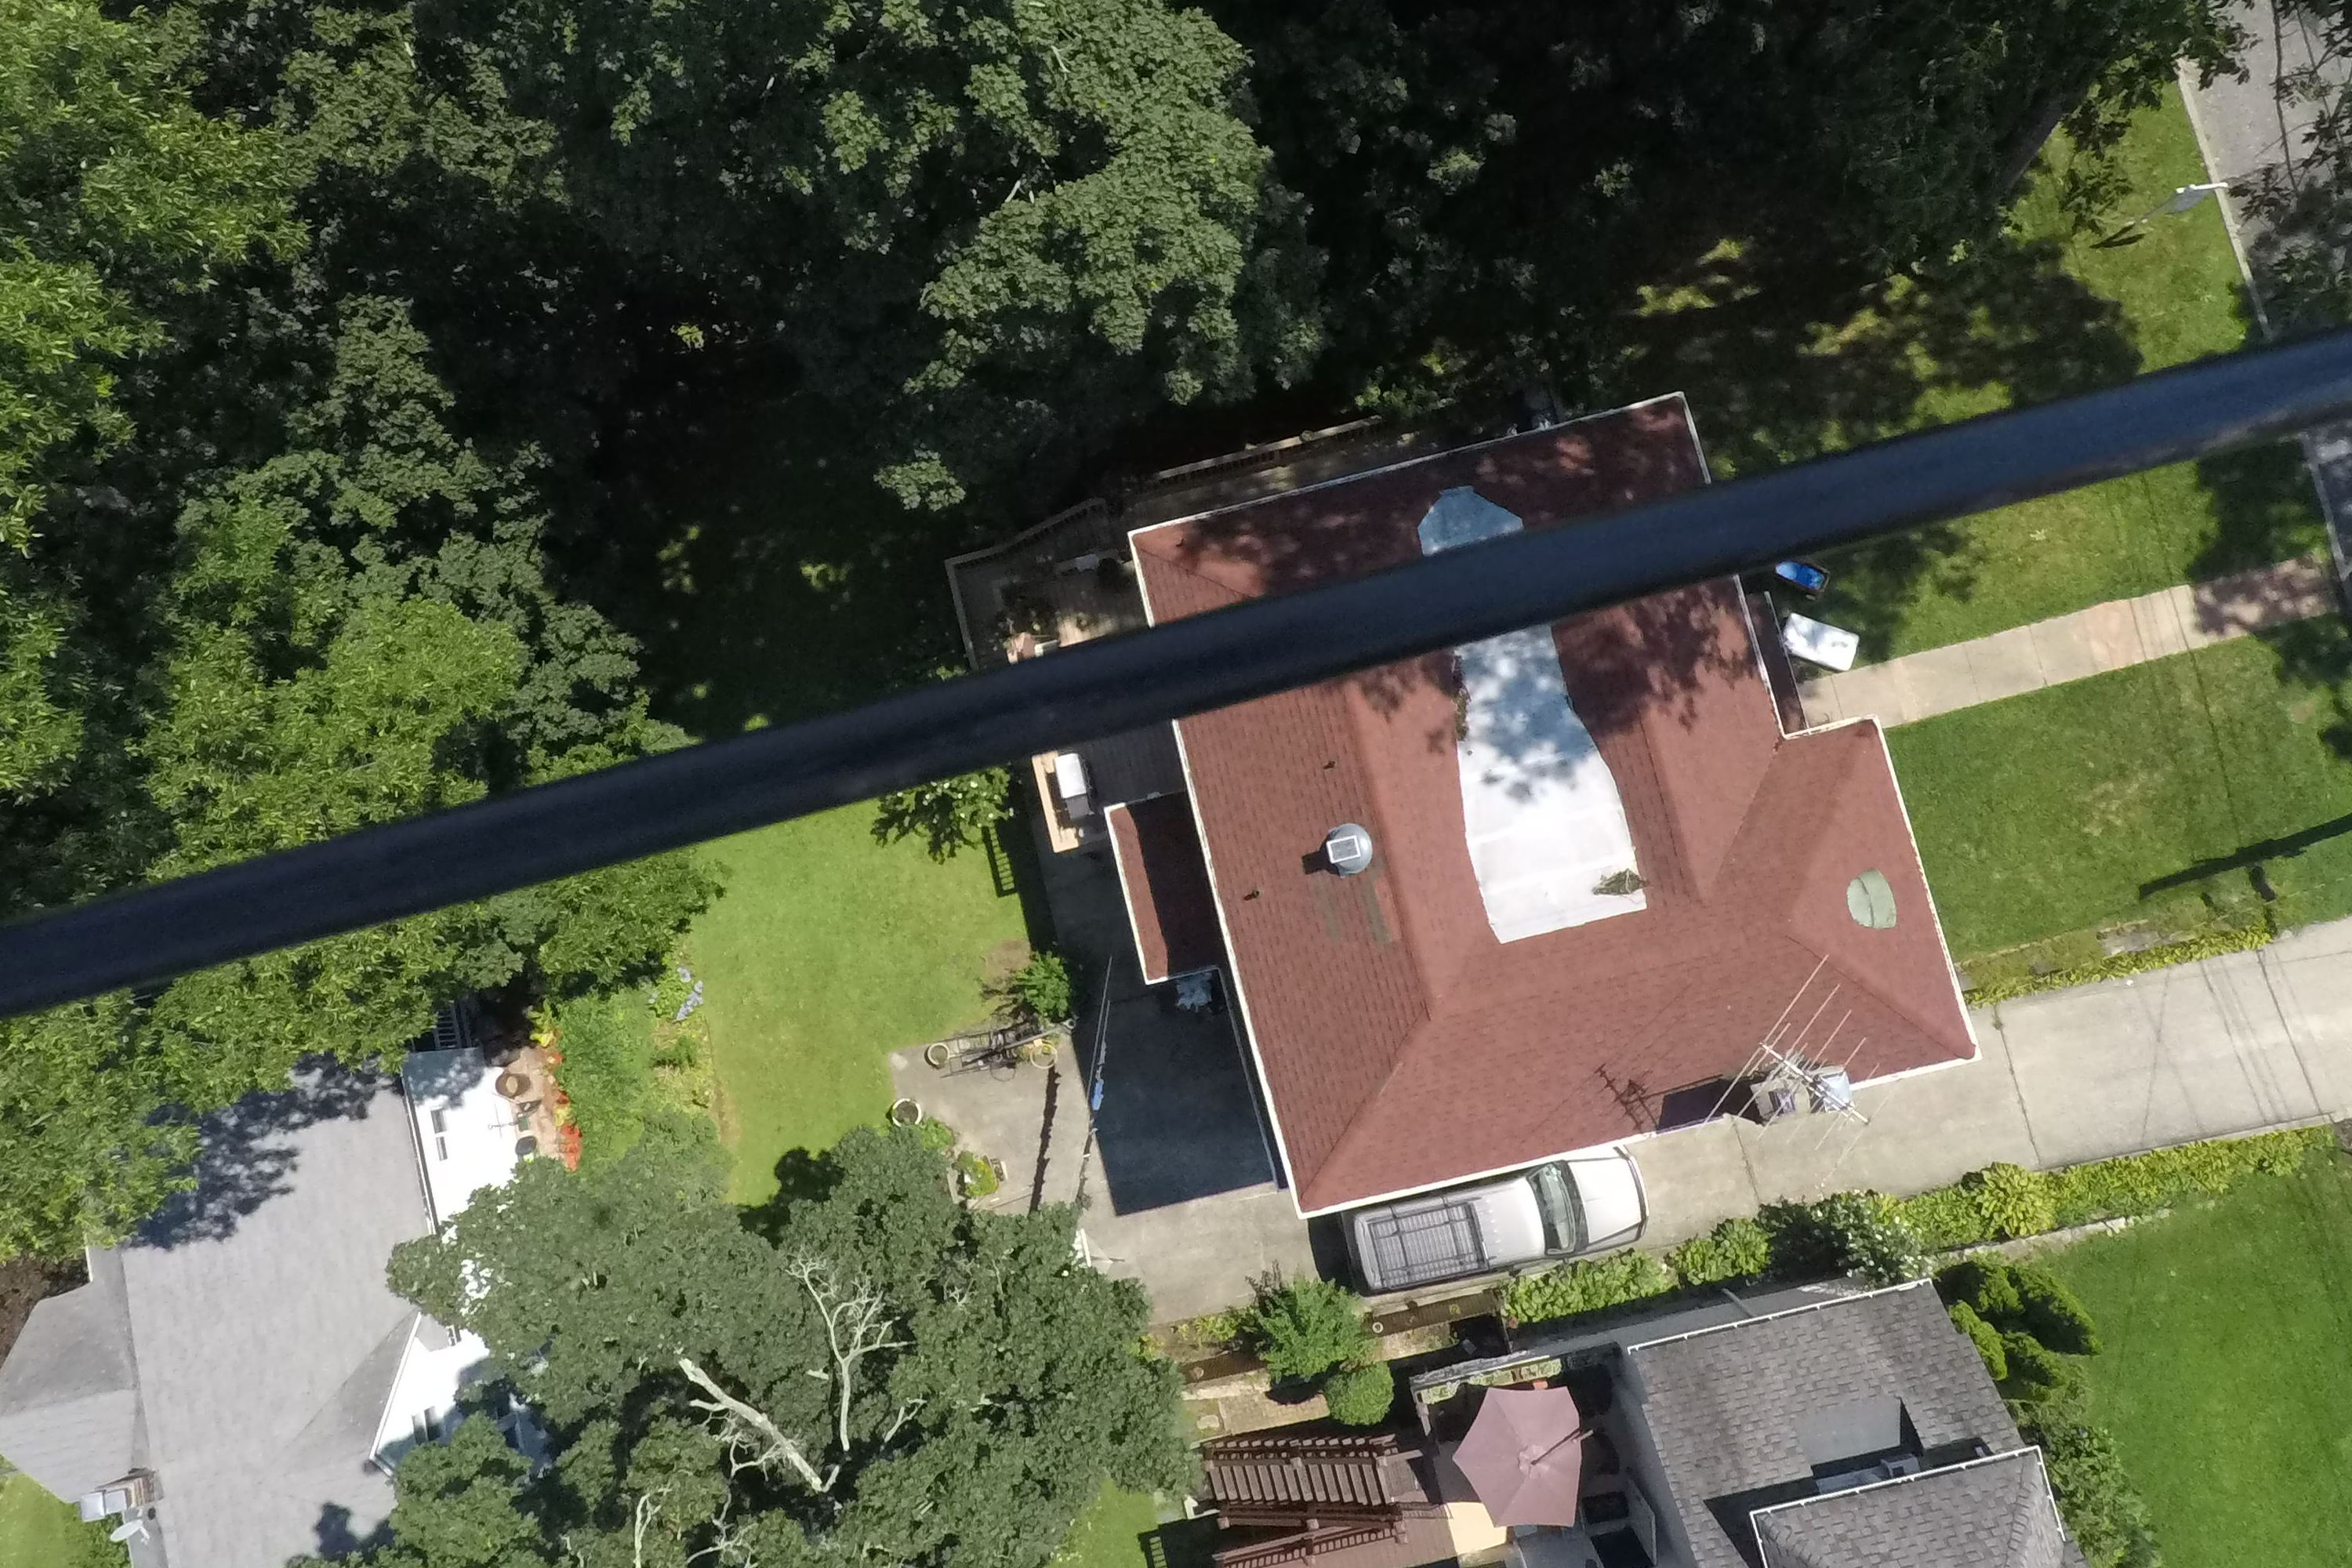basketball: (963, 1006, 1085, 1092)
flower pot - no base: (884, 1092, 927, 1132), (921, 1036, 952, 1071)
property - larvae: (567, 161, 2352, 1339)
